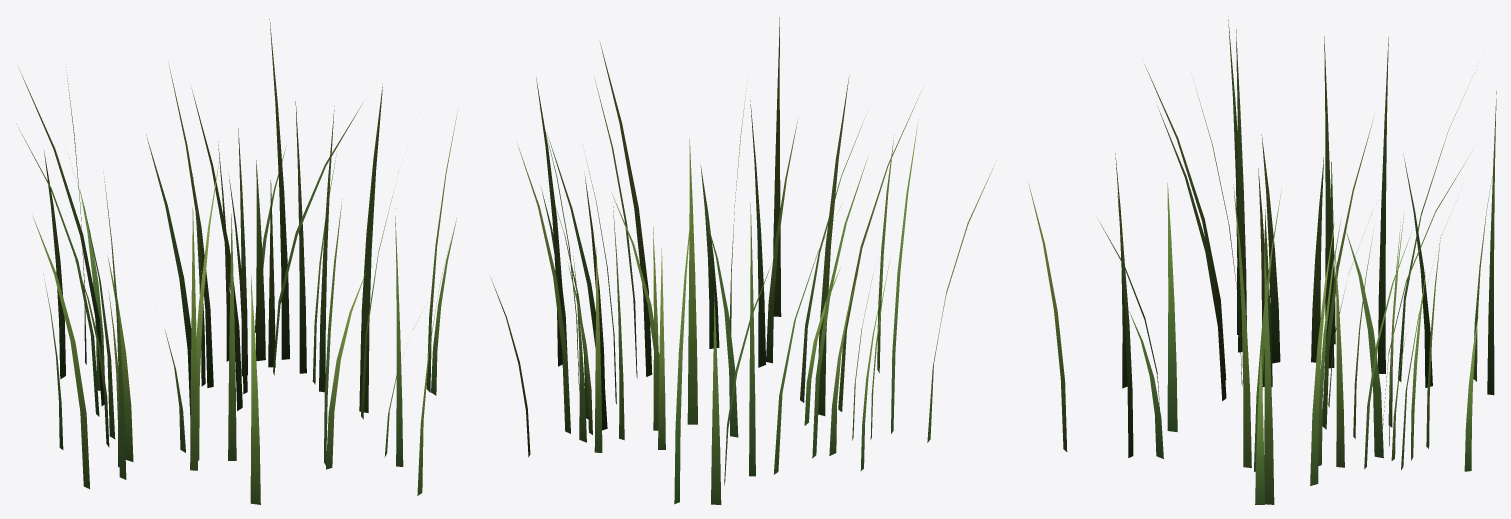
Rendered from grass-lawn-b.lod0.glb.
The picture shows the model from 3 angles, left to right: view 1: azimuth 30°, elevation 25°; view 2: azimuth 150°, elevation 25°; view 3: azimuth 270°, elevation 25°; orthographic projection. The views are drawn at different scales.
Visible parts, largest first — view 1: grass-lawn-b.lod0; view 2: grass-lawn-b.lod0; view 3: grass-lawn-b.lod0.
Boxes of the visible parts, x1,y1,x2,y2 form: grass-lawn-b.lod0: [16, 19, 457, 504]; grass-lawn-b.lod0: [490, 17, 996, 504]; grass-lawn-b.lod0: [1028, 19, 1496, 504].
Size of the model in its own units: 0.3741 by 0.2604 by 0.3472.
